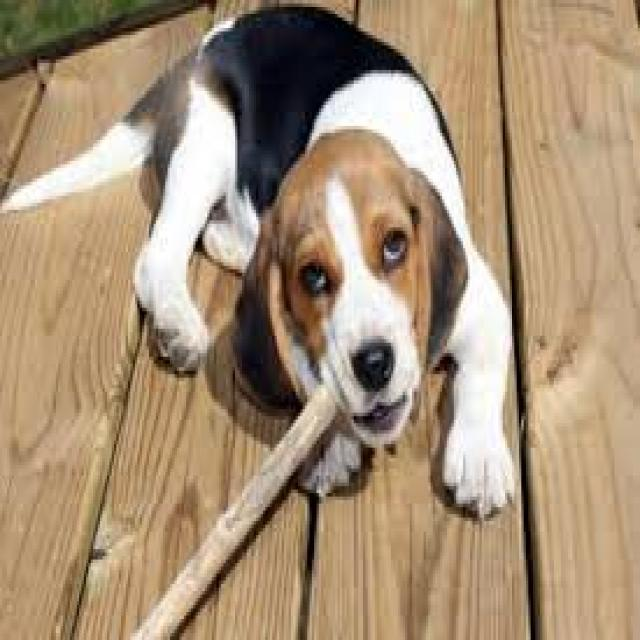Dog: (0, 1, 518, 524)
